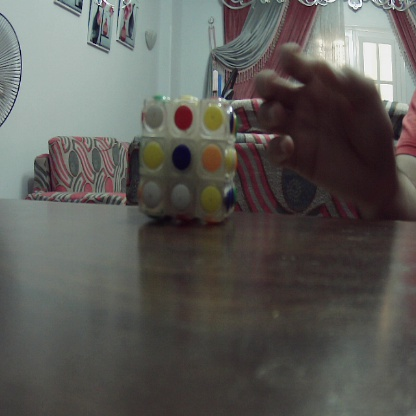Rubix Cube: (140, 93, 238, 224)
